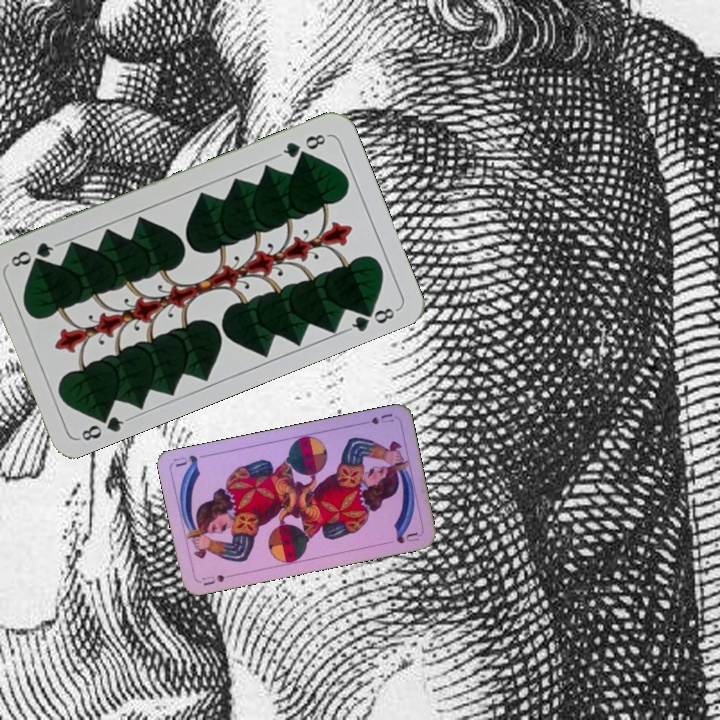G8: (75, 406, 132, 444), (274, 130, 331, 160)
SU: (356, 409, 396, 428), (198, 570, 227, 588)
